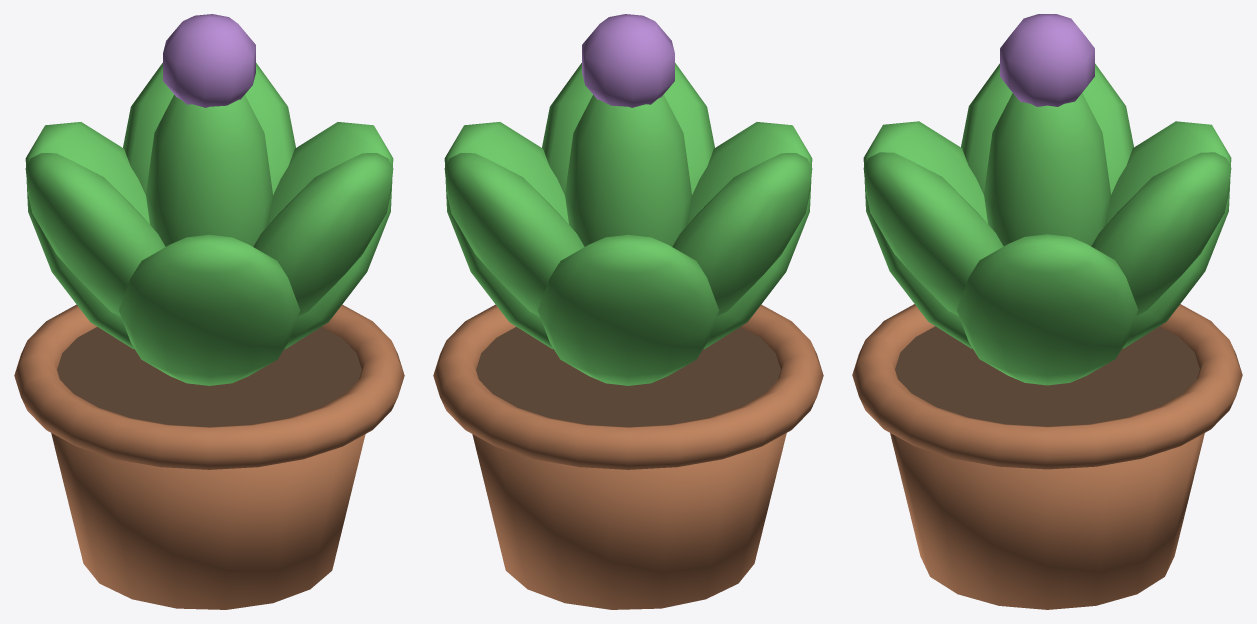
File: catnip.glb
3 renders of one model, left to right at view 1: azimuth 30°, elevation 25°; view 2: azimuth 150°, elevation 25°; view 3: azimuth 270°, elevation 25°, orthographic.
Parts seen in each view (by area): view 1: catnip; view 2: catnip; view 3: catnip.
Part boxes in pixels (box(x1,y1,x2,y2)): catnip: box(14, 14, 404, 609); catnip: box(433, 14, 823, 609); catnip: box(852, 14, 1242, 609).
Bounding box in the file's own units: 0.4382 × 0.655 × 0.43.
